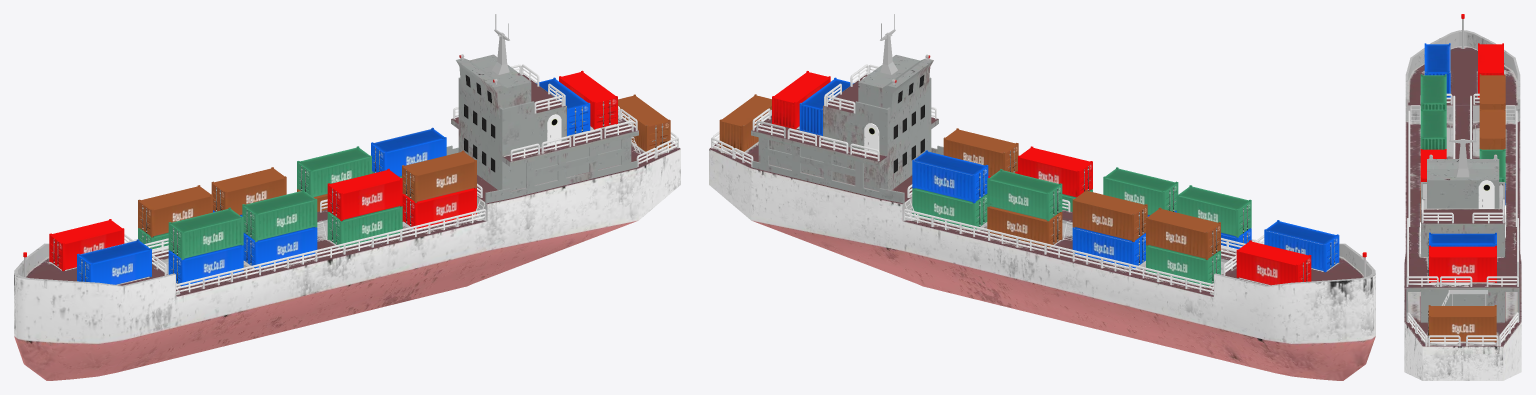
File: coastal-cargo-ship.glb
3 views of the same model, side by side, from view 1: azimuth 30°, elevation 25°; view 2: azimuth 150°, elevation 25°; view 3: azimuth 270°, elevation 25° (orthographic). The views are drawn at different scales.
Parts seen in each view (by area): view 1: defaultMaterial; view 2: defaultMaterial; view 3: defaultMaterial.
Part boxes in pixels (x1,y1,x2,y2): defaultMaterial: (14, 14, 680, 380); defaultMaterial: (709, 14, 1375, 380); defaultMaterial: (1404, 14, 1521, 380).
Bounding box in the file's own units: 2 × 0.7403 × 0.3276.
1 material, 1 textured.
